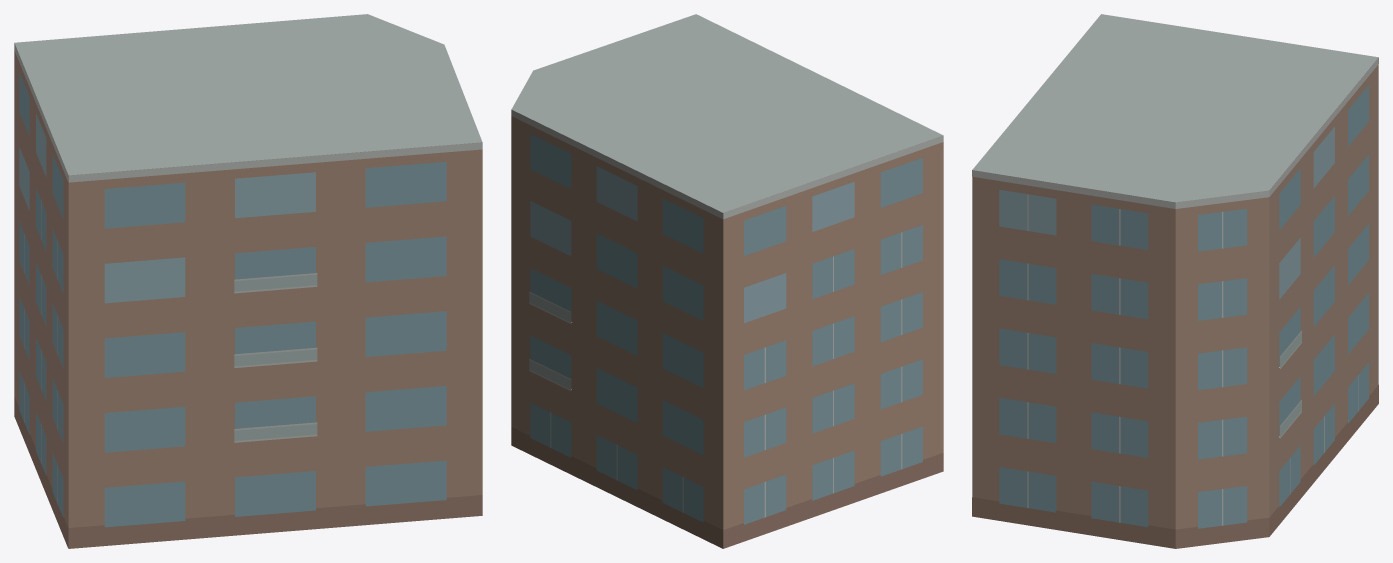
Rendered from survey-upis-32868456.glb.
3 views of the same model, side by side, from view 1: azimuth 30°, elevation 25°; view 2: azimuth 150°, elevation 25°; view 3: azimuth 270°, elevation 25° (orthographic). The views are drawn at different scales.
Parts seen in each view (by area): view 1: survey-upis-32868456.tmp; view 2: survey-upis-32868456.tmp; view 3: survey-upis-32868456.tmp.
Part boxes in pixels (left/top/right/bottom): survey-upis-32868456.tmp: left=14, top=14, right=482, bottom=548; survey-upis-32868456.tmp: left=511, top=14, right=943, bottom=548; survey-upis-32868456.tmp: left=972, top=14, right=1378, bottom=548.
Size of the model in its own units: 14.88 by 12.75 by 13.57.
